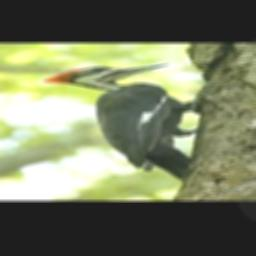Woodpecker: (41, 64, 205, 180)
